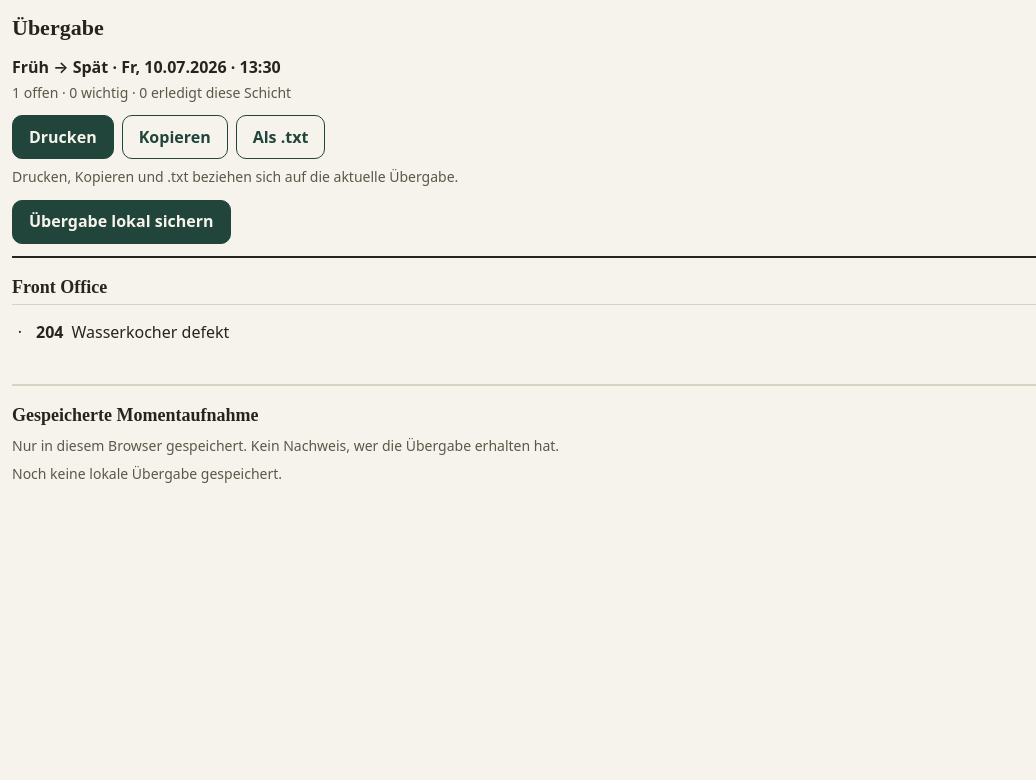
BriefView › saves a separate local snapshot and records receipt without completing tasks
The width and height of the screenshot is (1036, 780).
Click the button "Übergabe lokal sichern" at (121, 222), box left=12, top=200, right=230, bottom=244
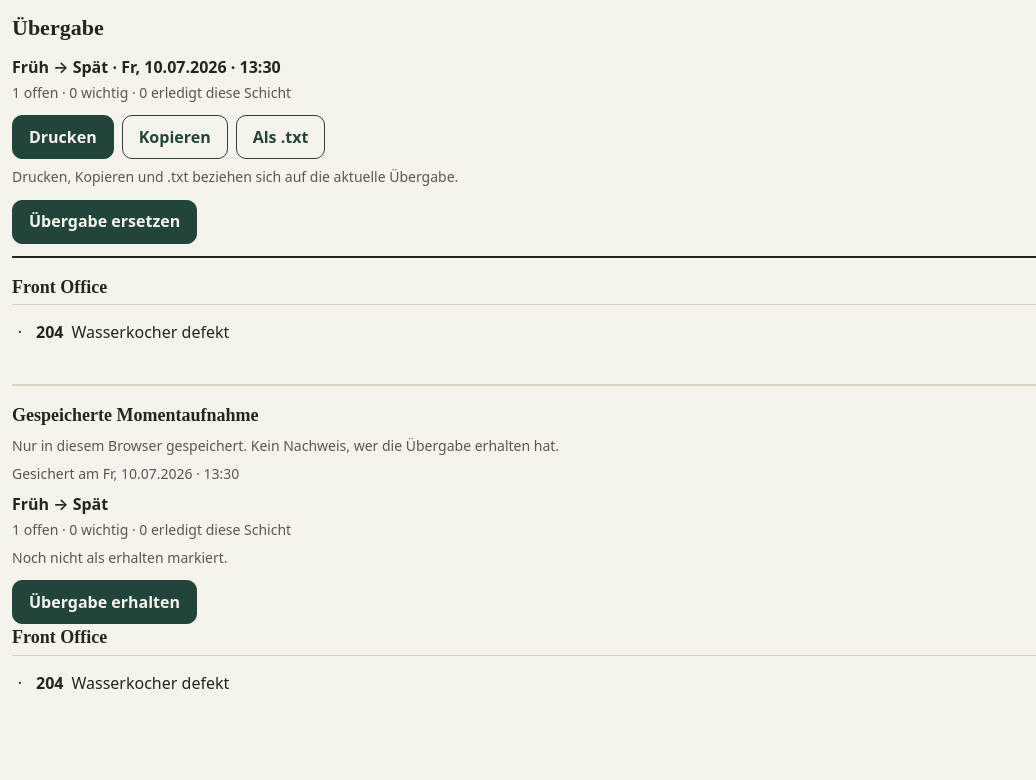
Expected: the text "Nur in diesem Browser gespeichert" is shown, left=12, top=436, right=559, bottom=455
Expected: the list item "Wasserkocher defekt" below "Noch nicht als erhalten markiert." is shown, left=72, top=672, right=229, bottom=694
Click the button "Übergabe erhalten" at (104, 602), box left=12, top=580, right=197, bottom=624
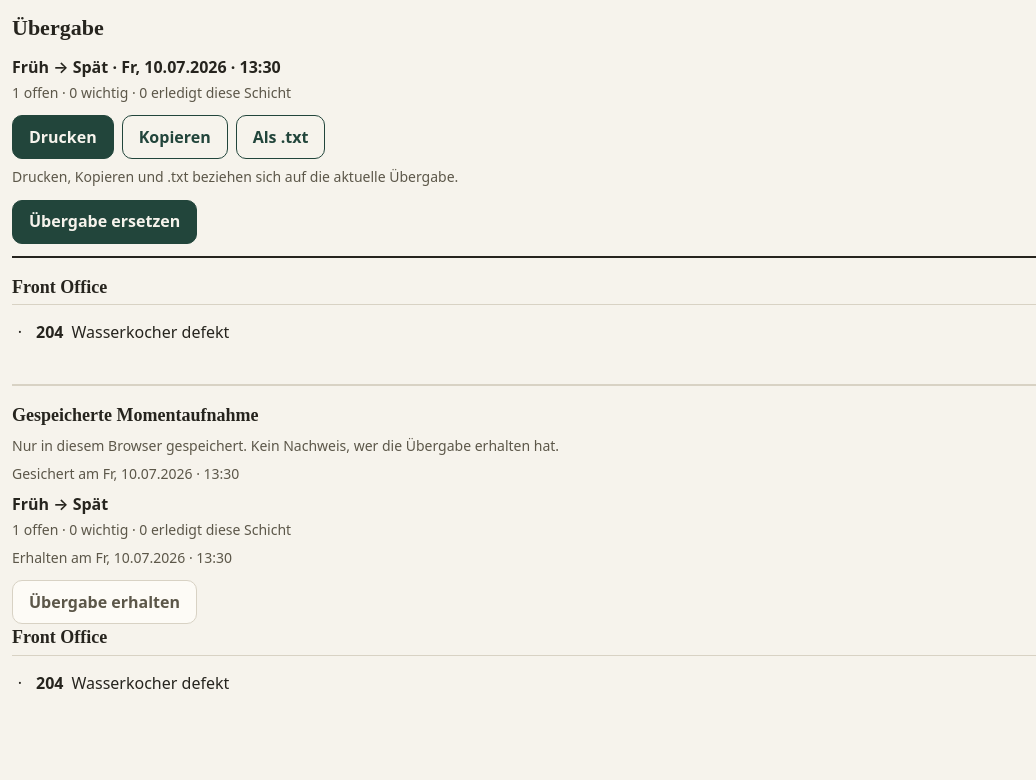
Expected: the button "Übergabe erhalten" is disabled, left=12, top=580, right=197, bottom=624
Expected: the text "Erhalten am Fr, 10.07.2026 · 13:30" is shown, left=12, top=548, right=232, bottom=567
